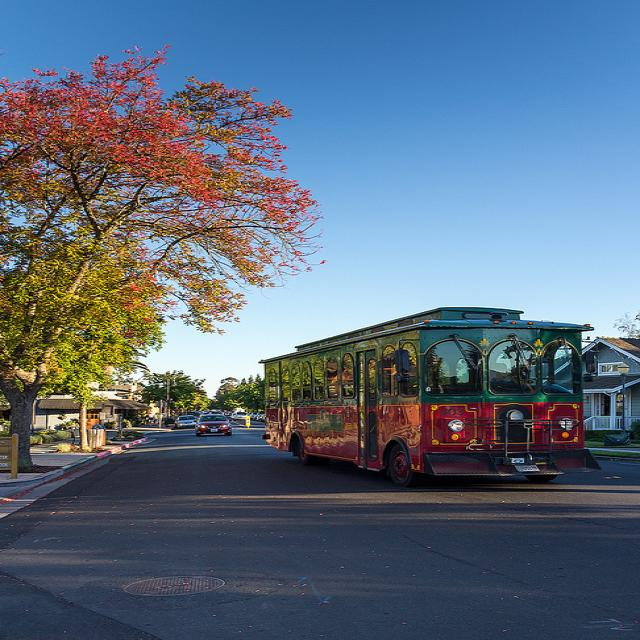Vehicle: (254, 305, 604, 486), (195, 414, 234, 436), (174, 415, 196, 428), (234, 412, 248, 422), (256, 414, 265, 422)
